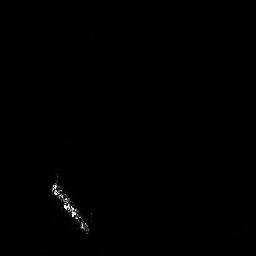ship: (47, 173, 95, 239)
